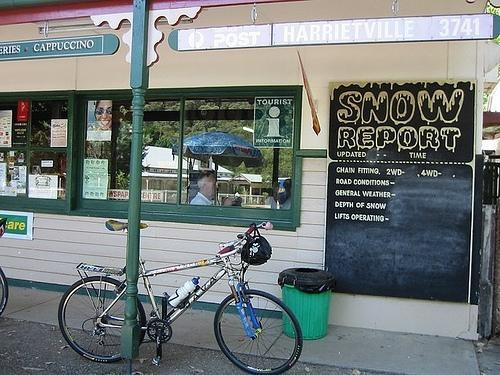bicycle: (58, 215, 303, 374), (1, 217, 11, 322)
